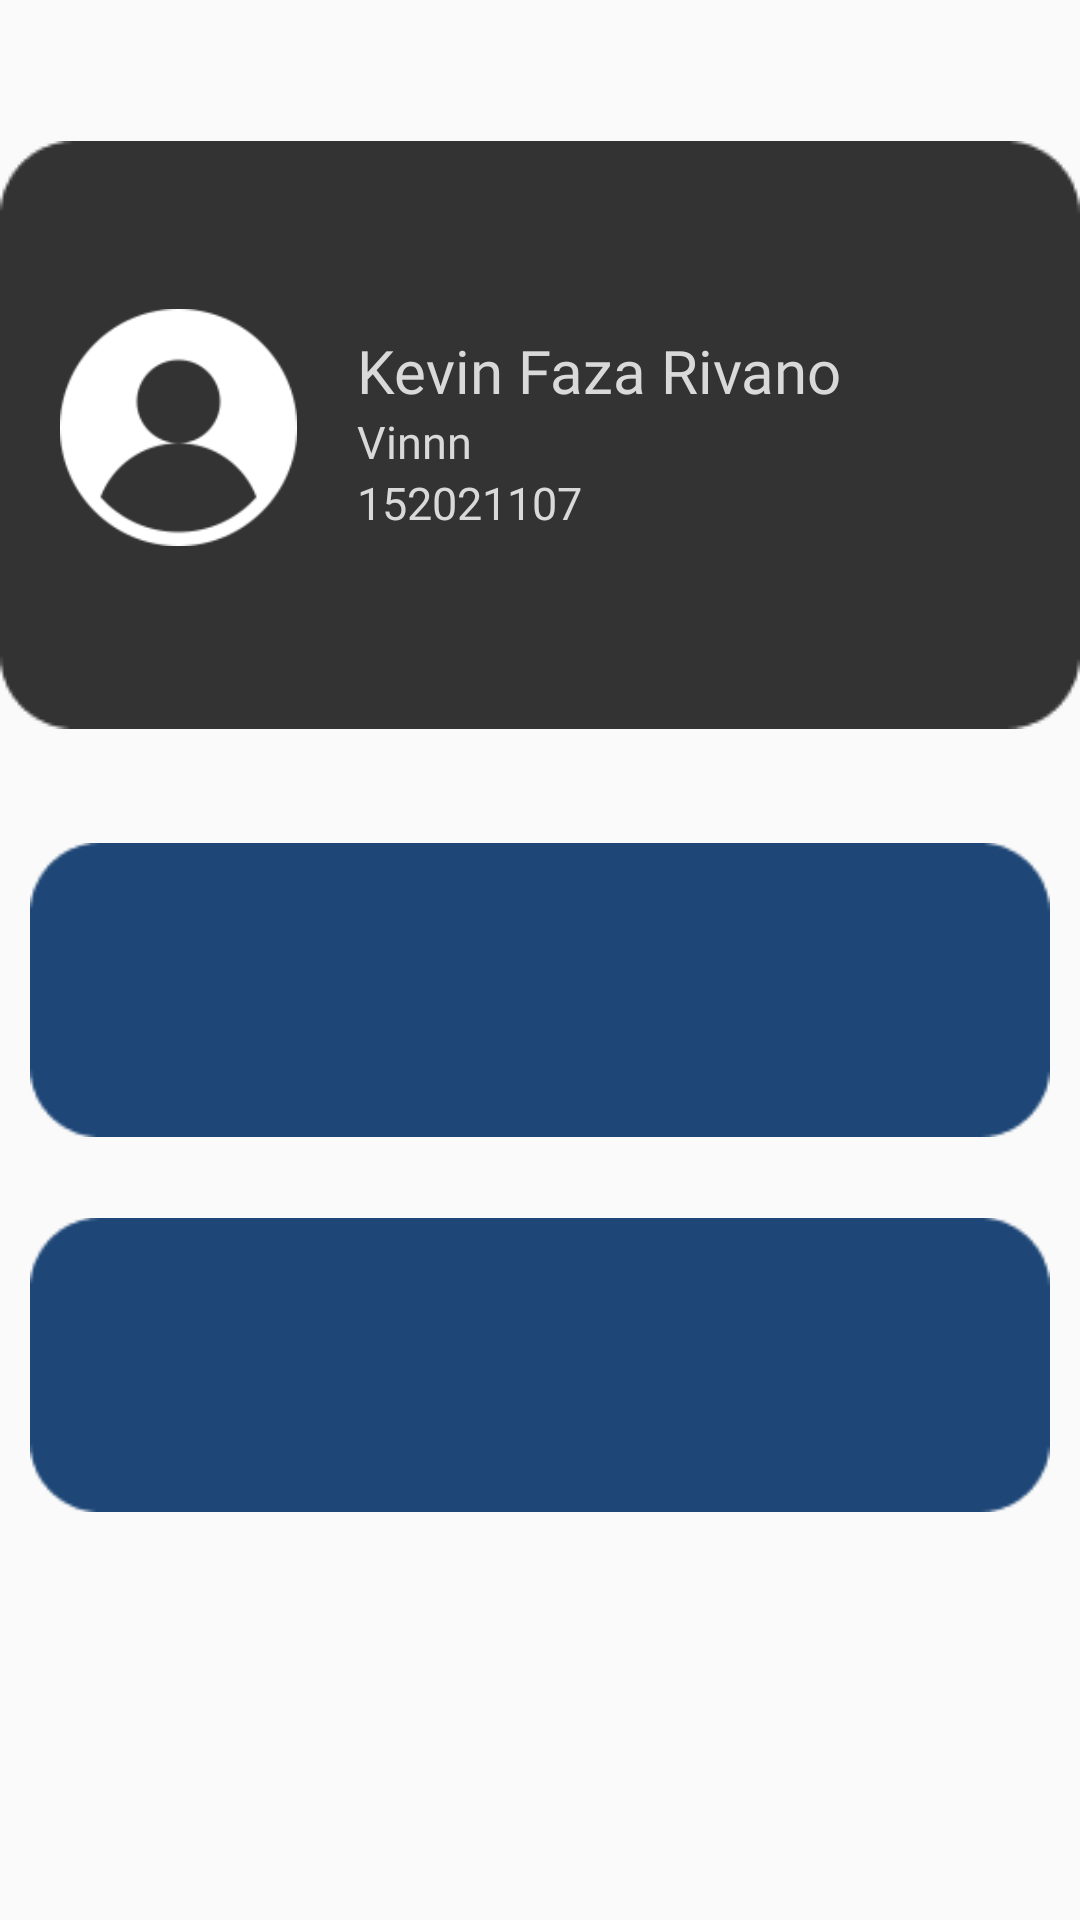

Icons on this 1080x1920 Android screen, each with the point to tap as [x,y]:
user: [178,427]
